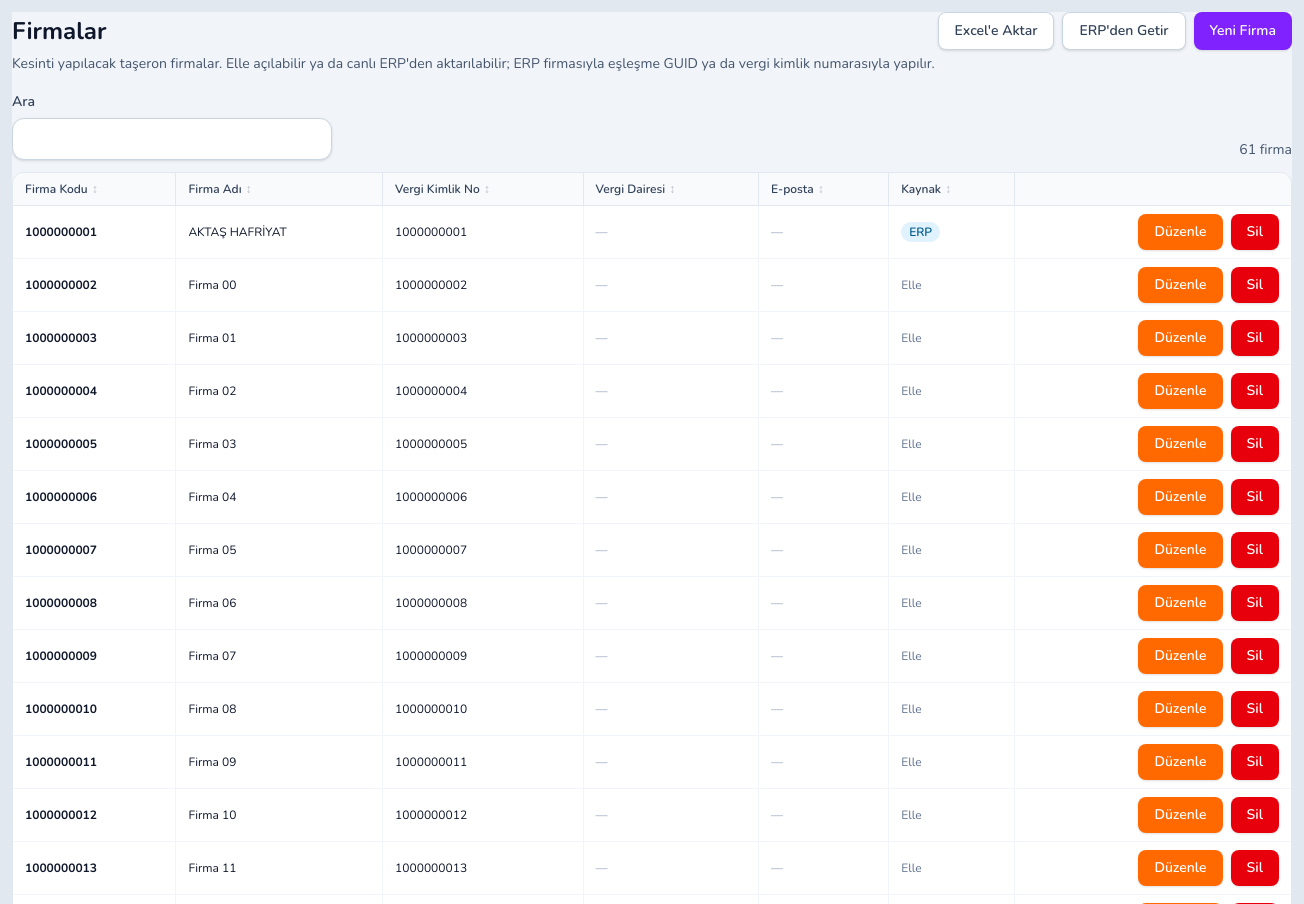
Test: FirmalarPage › kolon başlığına göre sıralama sayfalamadan önce tüm listeye uygulanır
The width and height of the screenshot is (1304, 904).
Expected: the text "AKTAŞ HAFRİYAT" is shown, [188,224,287,240]
Note: Ad'a göre azalan: 2. sayfadaki son firma ilk sayfanın başına gelir
Click the button "Firma Adı ↕" at (220, 189), box [188,181,252,197]
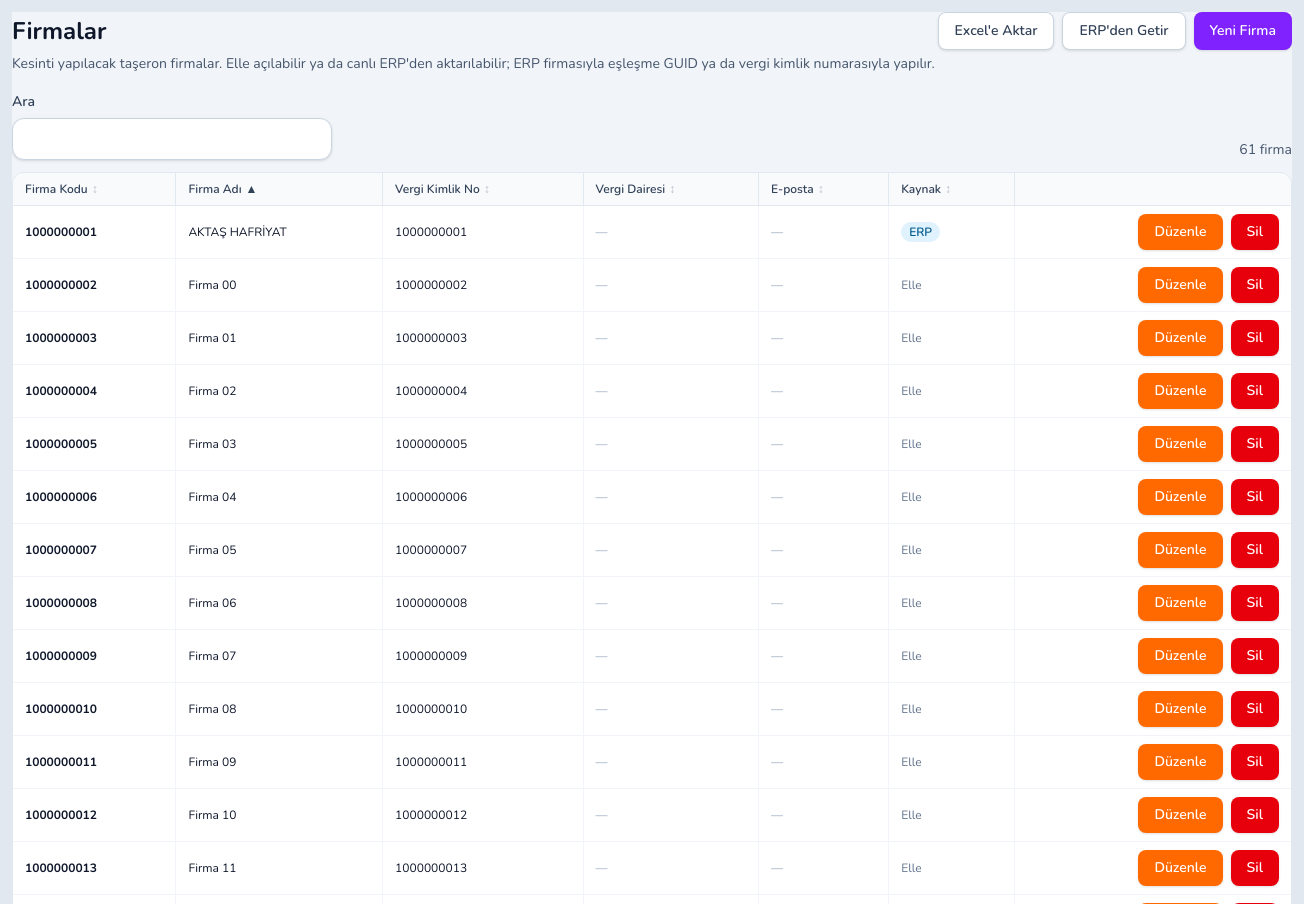
Click the button "Firma Adı ▲" at (223, 189), box [188,181,257,197]
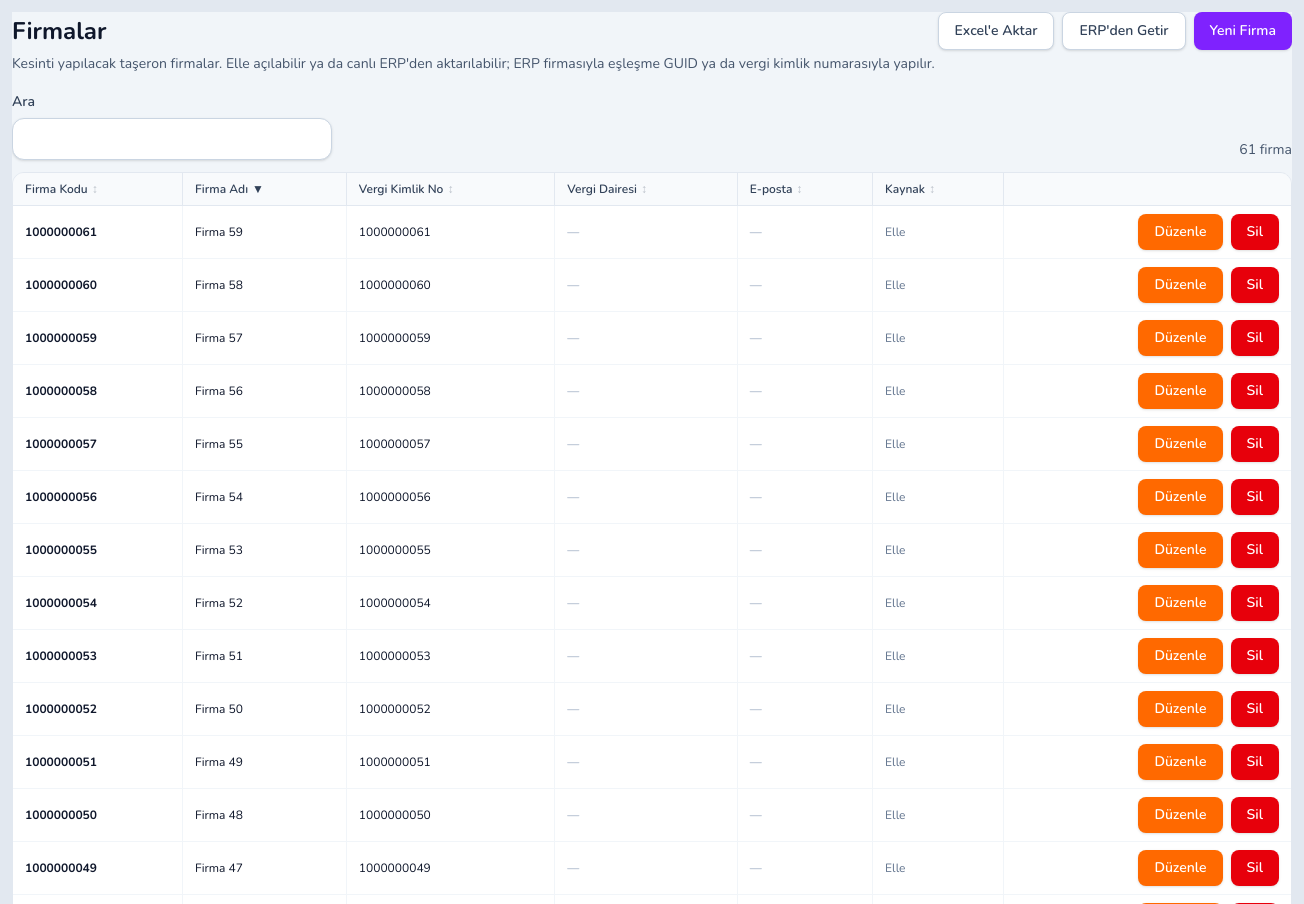
Result: the text "Firma 59" is shown at [195,224,243,240]
Result: the text "AKTAŞ HAFRİYAT" is gone
